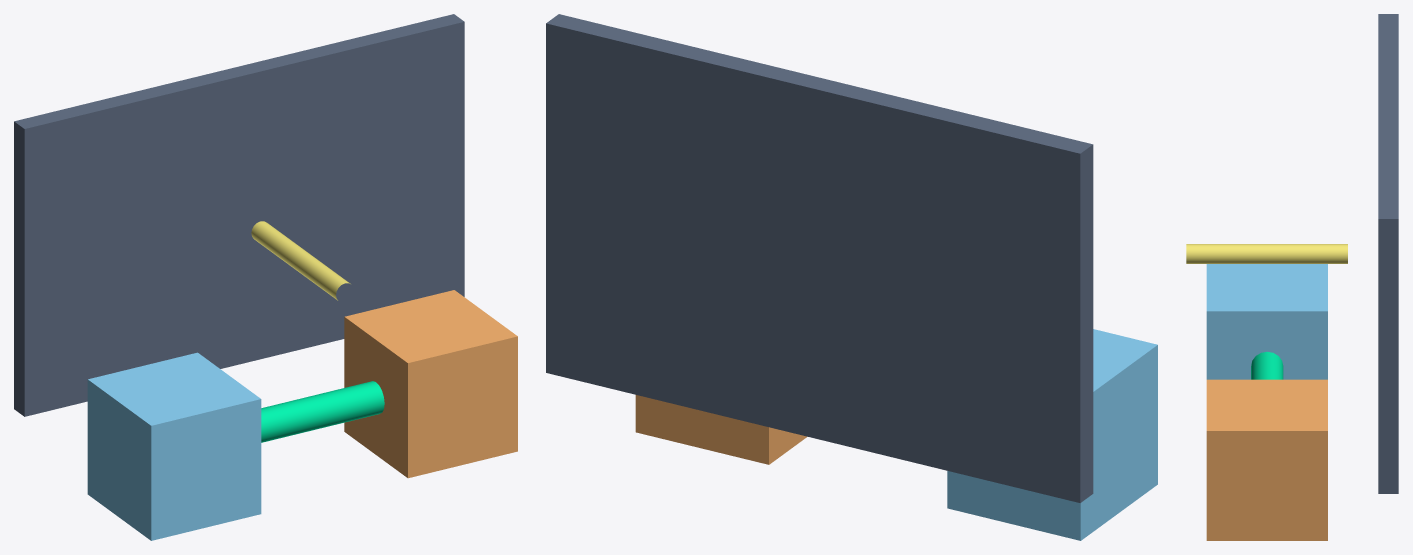
File: web_development.glb
The picture shows the model from 3 angles, left to right: view 1: azimuth 30°, elevation 25°; view 2: azimuth 150°, elevation 25°; view 3: azimuth 270°, elevation 25°; orthographic projection. The views are drawn at different scales.
Parts seen in each view (by area): view 1: BrowserViewportScreen, DOMTreeHierarchy, CSSFlexGridEngine, JSEventBusPipeline, ClientServerNetworkLine; view 2: BrowserViewportScreen, DOMTreeHierarchy, CSSFlexGridEngine; view 3: CSSFlexGridEngine, DOMTreeHierarchy, BrowserViewportScreen, ClientServerNetworkLine, JSEventBusPipeline.
Part boxes in pixels (x1,y1,x2,y2): BrowserViewportScreen: (14, 14, 464, 416); DOMTreeHierarchy: (87, 352, 261, 540); CSSFlexGridEngine: (344, 290, 517, 478); JSEventBusPipeline: (261, 381, 384, 442); ClientServerNetworkLine: (251, 221, 350, 300); BrowserViewportScreen: (546, 14, 1093, 502); DOMTreeHierarchy: (947, 329, 1157, 540); CSSFlexGridEngine: (635, 395, 807, 464); CSSFlexGridEngine: (1206, 379, 1327, 540); DOMTreeHierarchy: (1206, 264, 1327, 379); BrowserViewportScreen: (1378, 14, 1398, 493); ClientServerNetworkLine: (1186, 244, 1347, 263); JSEventBusPipeline: (1251, 351, 1283, 379).
Size of the model in its own units: 2.4 by 1.85 by 1.05.
